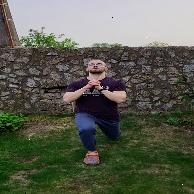lunges: (54, 57, 137, 164)
